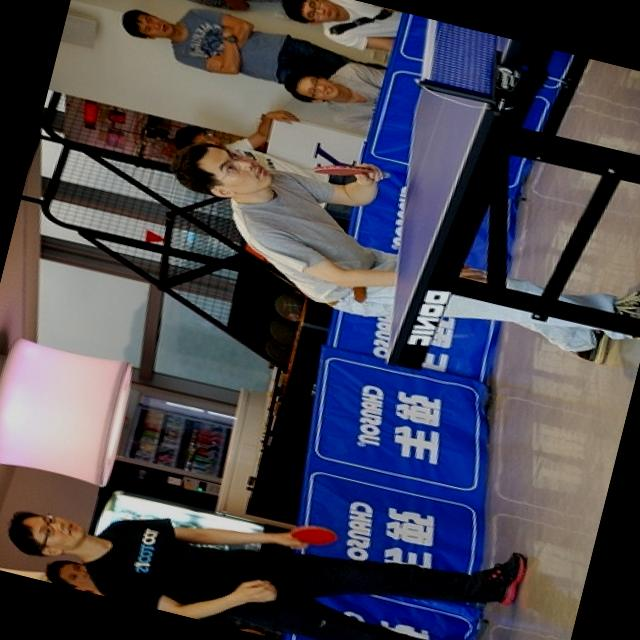TT Net: (407, 17, 523, 107)
TT Racket: (283, 515, 349, 559), (310, 150, 387, 186)
TT Table: (336, 16, 512, 367)
